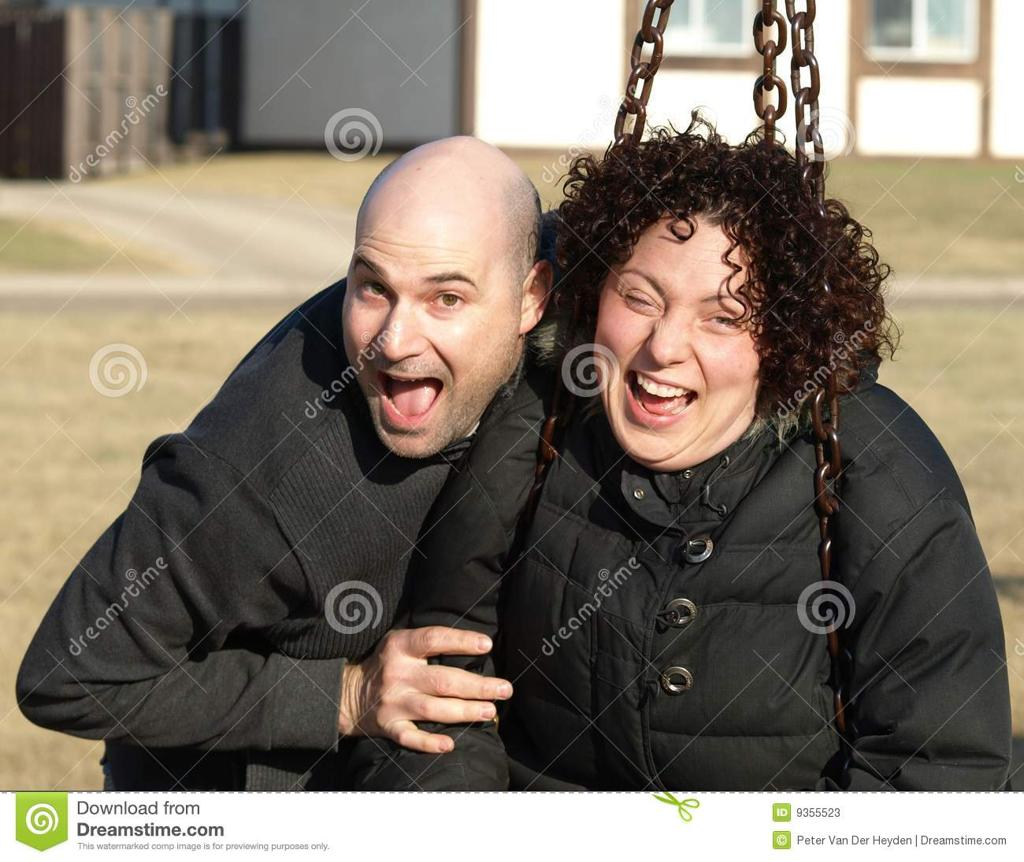face: (340, 192, 522, 458), (594, 216, 756, 466)
